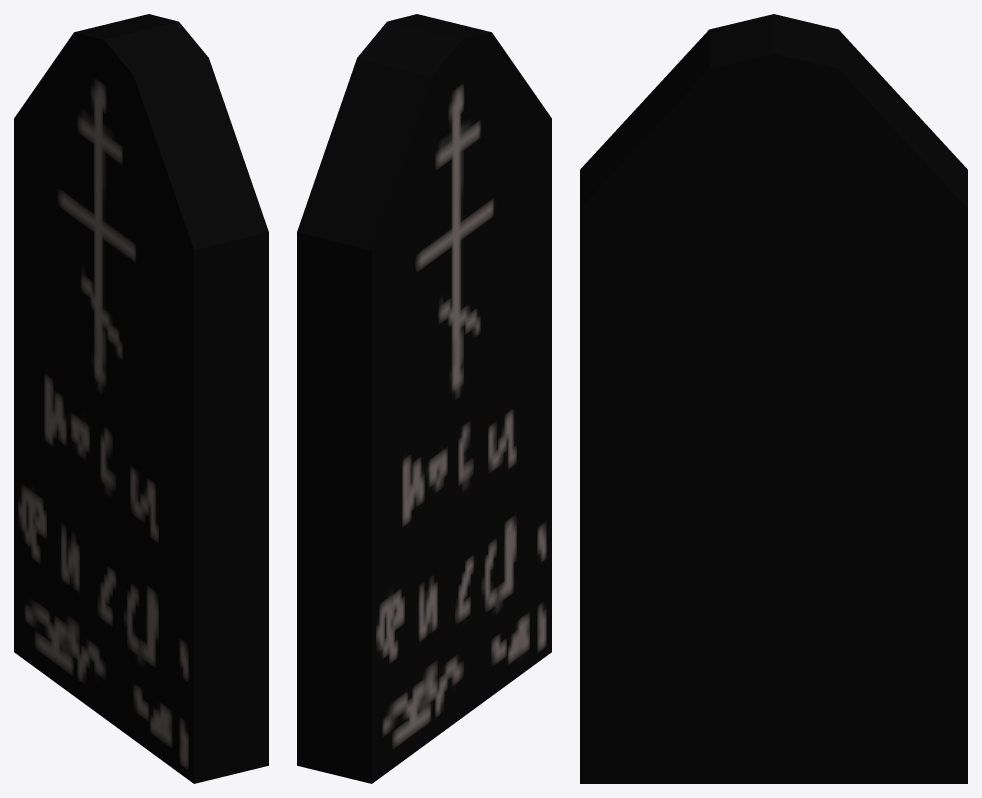
The model's file is Надгробие2.fbx.
The picture shows the model from 3 angles, left to right: view 1: azimuth 30°, elevation 25°; view 2: azimuth 150°, elevation 25°; view 3: azimuth 270°, elevation 25°; orthographic projection. The views are drawn at different scales.
Parts seen in each view (by area): view 1: Куб; view 2: Куб; view 3: Куб.
Boxes of the visible parts, x1=… form: Куб: x1=14, y1=14, x2=268, y2=783; Куб: x1=297, y1=14, x2=551, y2=783; Куб: x1=580, y1=14, x2=967, y2=783.
Size of the model in its own units: 37.92 by 328 by 158.
Materials: 1 (1 with a texture image).
